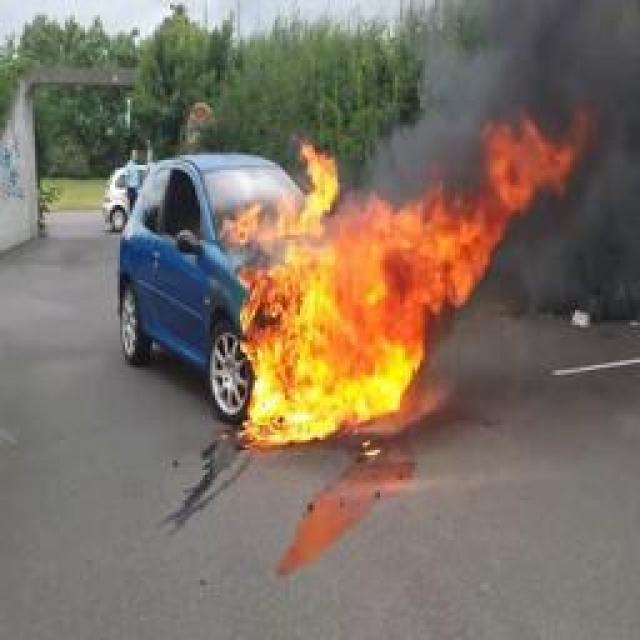Fire: (222, 108, 588, 450)
